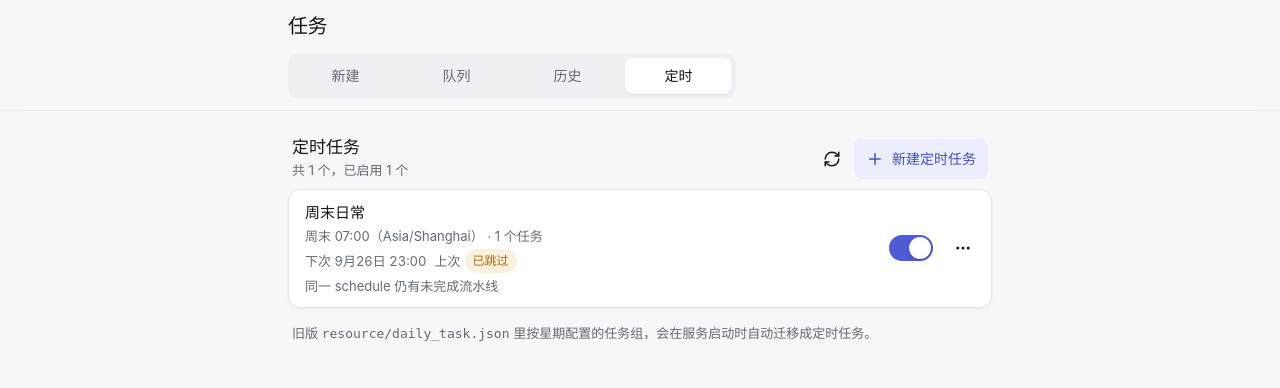
schedule list › restores the switch and explains a refused toggle in place
The image size is (1280, 388).
Click the switch named "启用「周末日常」": (911, 248) [889, 235, 933, 261]
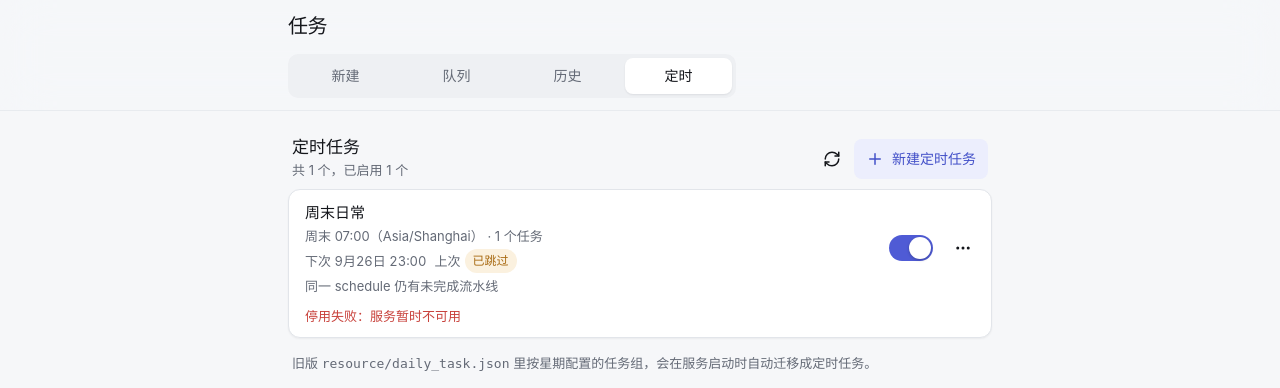
expect the message reads "停用失败：服务暂时不可用": met, box [305, 308, 461, 324]
